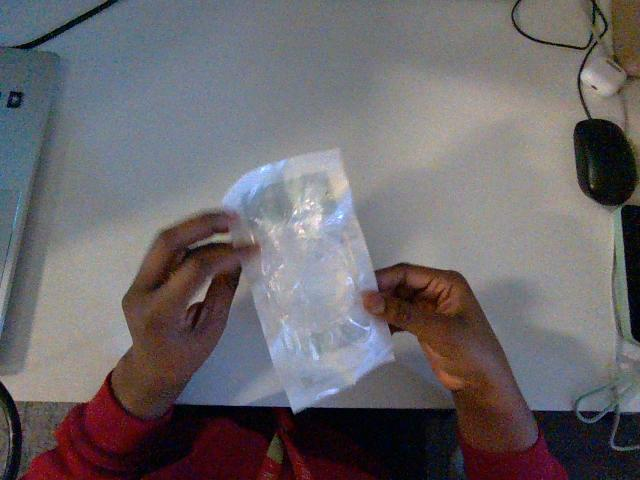gallipot: (223, 150, 392, 411)
